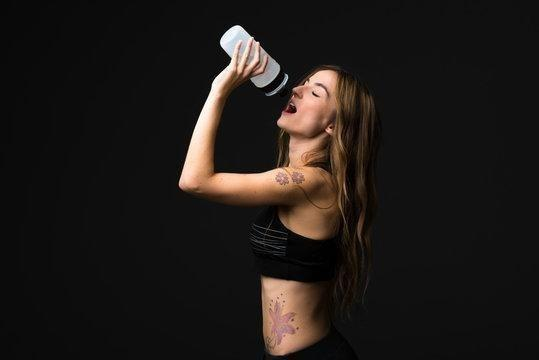gym bottle: (219, 24, 290, 97)
